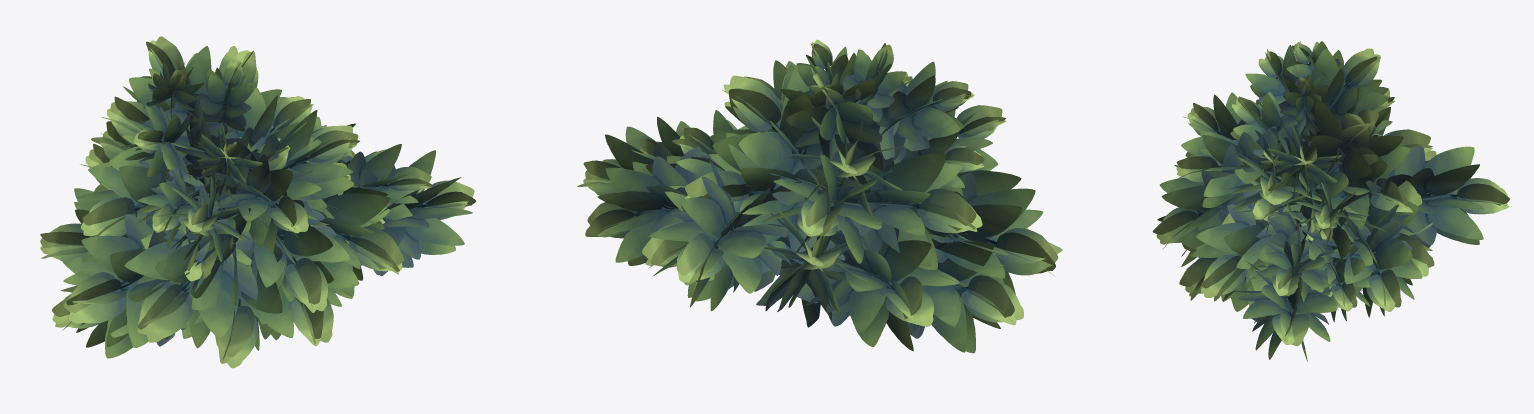
File: Bush_01.fbx
The picture shows the model from 3 angles, left to right: view 1: azimuth 30°, elevation 25°; view 2: azimuth 150°, elevation 25°; view 3: azimuth 270°, elevation 25°; orthographic projection. The views are drawn at different scales.
Parts seen in each view (by area): view 1: bush_01; view 2: bush_01; view 3: bush_01.
Boxes of the visible parts, <box> form: bush_01: <box>40,36,476,368</box>; bush_01: <box>577,39,1062,353</box>; bush_01: <box>1152,41,1509,361</box>.
Size of the model in its own units: 240 by 168 by 211.
Materials: 1 (1 with a texture image).
